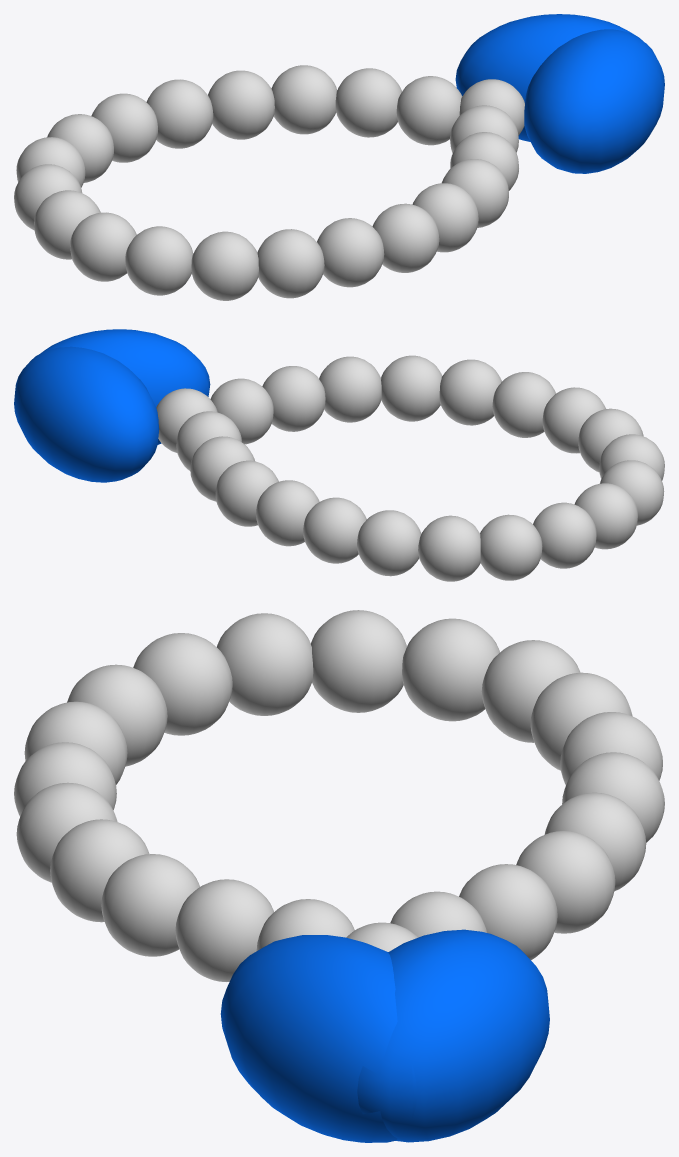
File: necklace_01.fbx
3 views of the same model, one above another, from view 1: azimuth 30°, elevation 25°; view 2: azimuth 150°, elevation 25°; view 3: azimuth 270°, elevation 25° (orthographic). The views are drawn at different scales.
Parts seen in each view (by area): view 1: Heartnecklace; view 2: Heartnecklace; view 3: Heartnecklace.
Boxes of the visible parts, bbox=[...] form: Heartnecklace: bbox=[14, 14, 664, 300]; Heartnecklace: bbox=[14, 329, 664, 581]; Heartnecklace: bbox=[14, 610, 664, 1142].
Bounding box in the file's own units: 1.01 × 0.1811 × 0.6073.
